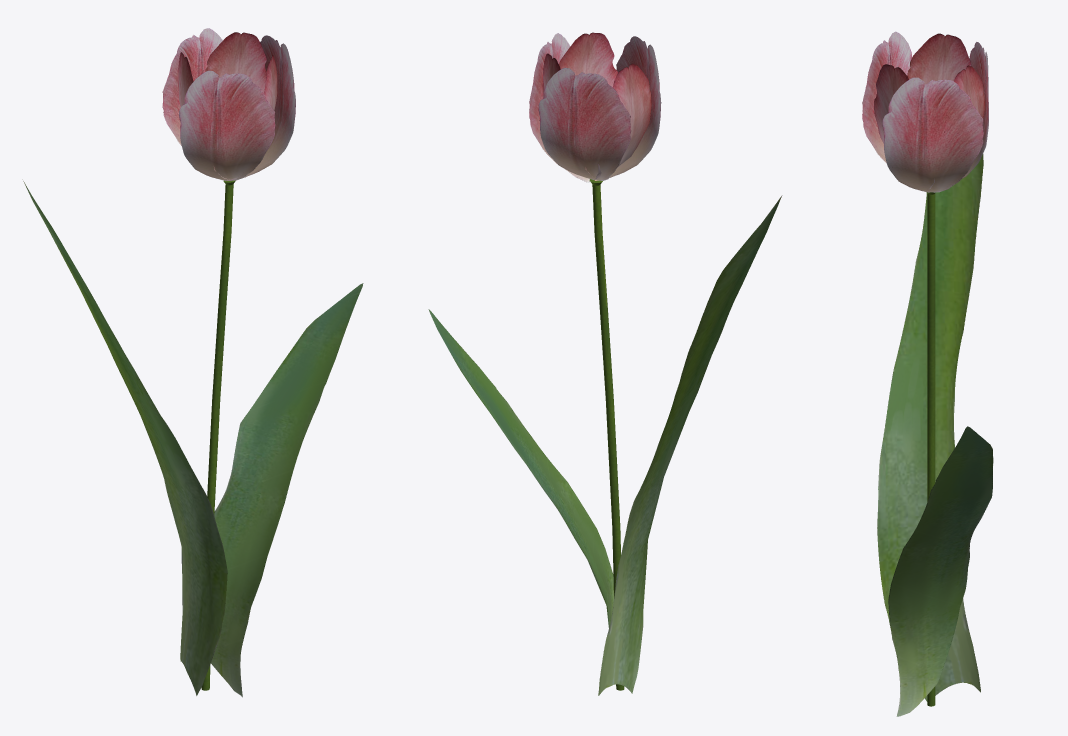
The model's file is Tulip_Grown.fbx.
3 renders of one model, left to right at view 1: azimuth 30°, elevation 25°; view 2: azimuth 150°, elevation 25°; view 3: azimuth 270°, elevation 25°, orthographic. The views are drawn at different scales.
Parts seen in each view (by area): view 1: pasted__pCube1, pCube1, pasted__pCube2 (×2), pCylinder1, pCube2, pasted__pasted__pasted__pCube2; view 2: pCube1, pasted__pCube2 (×2), pasted__pCube1, pCylinder1, pasted__pasted__pCube2, pasted__pasted__pasted__pCube2, pCube2; view 3: pCube1, pasted__pCube1, pCube2, pasted__pCube2 (×2), pCylinder1, pasted__pasted__pCube2, pasted__pasted__pasted__pCube2 (×2).
Part boxes in pixels (x1=…): pasted__pCube1: x1=211, y1=283, x2=363, y2=697; pCube1: x1=22, y1=179, x2=227, y2=695; pasted__pCube2 (×2): x1=162, y1=28, x2=275, y2=180; pCylinder1: x1=201, y1=180, x2=235, y2=690; pCube2: x1=243, y1=35, x2=295, y2=177; pasted__pasted__pasted__pCube2: x1=205, y1=32, x2=266, y2=180; pCube1: x1=598, y1=195, x2=782, y2=695; pasted__pCube2 (×2): x1=538, y1=36, x2=661, y2=180; pasted__pCube1: x1=428, y1=309, x2=613, y2=627; pCylinder1: x1=589, y1=179, x2=624, y2=690; pasted__pasted__pCube2: x1=594, y1=63, x2=651, y2=179; pasted__pasted__pasted__pCube2: x1=559, y1=32, x2=617, y2=180; pCube2: x1=529, y1=33, x2=589, y2=182; pCube1: x1=877, y1=154, x2=983, y2=701; pasted__pCube1: x1=888, y1=426, x2=993, y2=716; pCube2: x1=882, y1=77, x2=983, y2=192; pasted__pCube2 (×2): x1=862, y1=31, x2=988, y2=178; pCylinder1: x1=926, y1=192, x2=935, y2=706; pasted__pasted__pCube2: x1=907, y1=33, x2=970, y2=84; pasted__pasted__pasted__pCube2 (×2): x1=874, y1=64, x2=984, y2=189.
Size of the model in its own units: 21.09 by 36.93 by 10.4.
